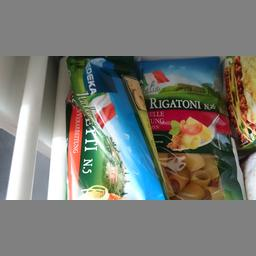pasta: (138, 56, 244, 198), (62, 56, 166, 198)
